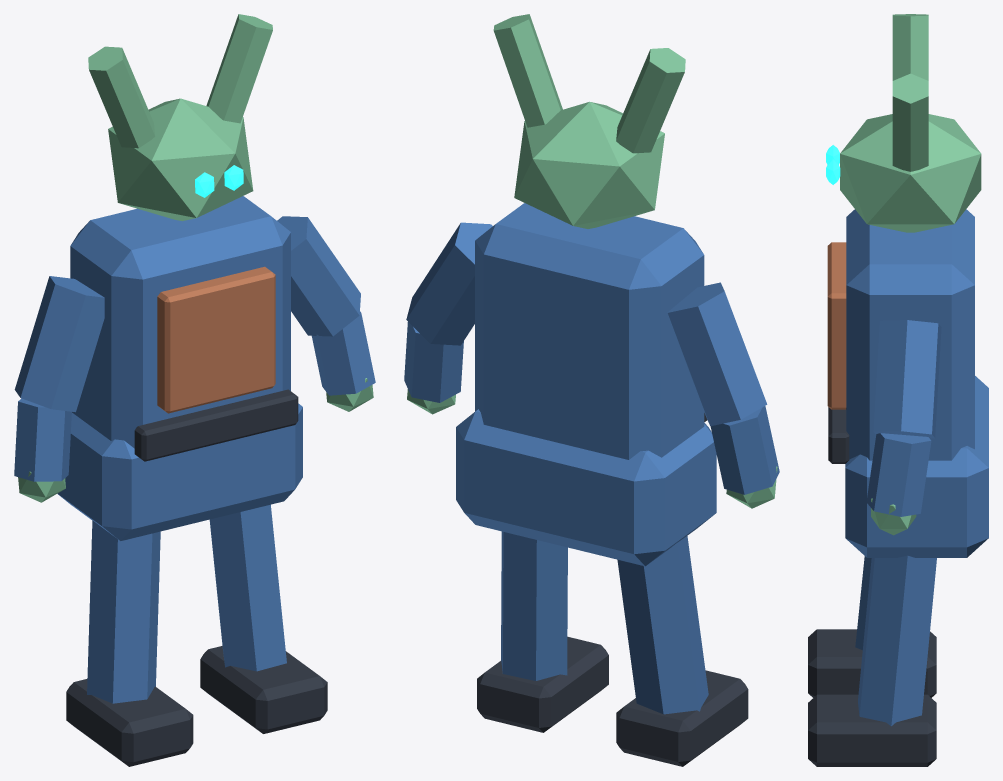
The model's file is npcs_008_seed78877.glb.
3 renders of one model, left to right at view 1: azimuth 30°, elevation 25°; view 2: azimuth 150°, elevation 25°; view 3: azimuth 270°, elevation 25°, orthographic. The views are drawn at different scales.
Visible parts, largest first — view 1: npcs_008_seed78877; view 2: npcs_008_seed78877; view 3: npcs_008_seed78877.
Boxes of the visible parts, x1,y1,x2,y2 form: npcs_008_seed78877: (14,14,375,766); npcs_008_seed78877: (404,14,779,766); npcs_008_seed78877: (808,14,988,766).
Bounding box in the file's own units: 0.9641 × 1.75 × 0.4248.
